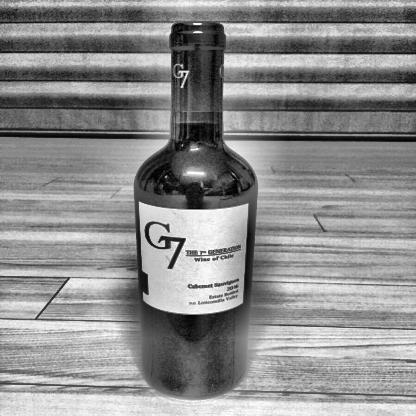G7: (137, 204, 247, 313)
